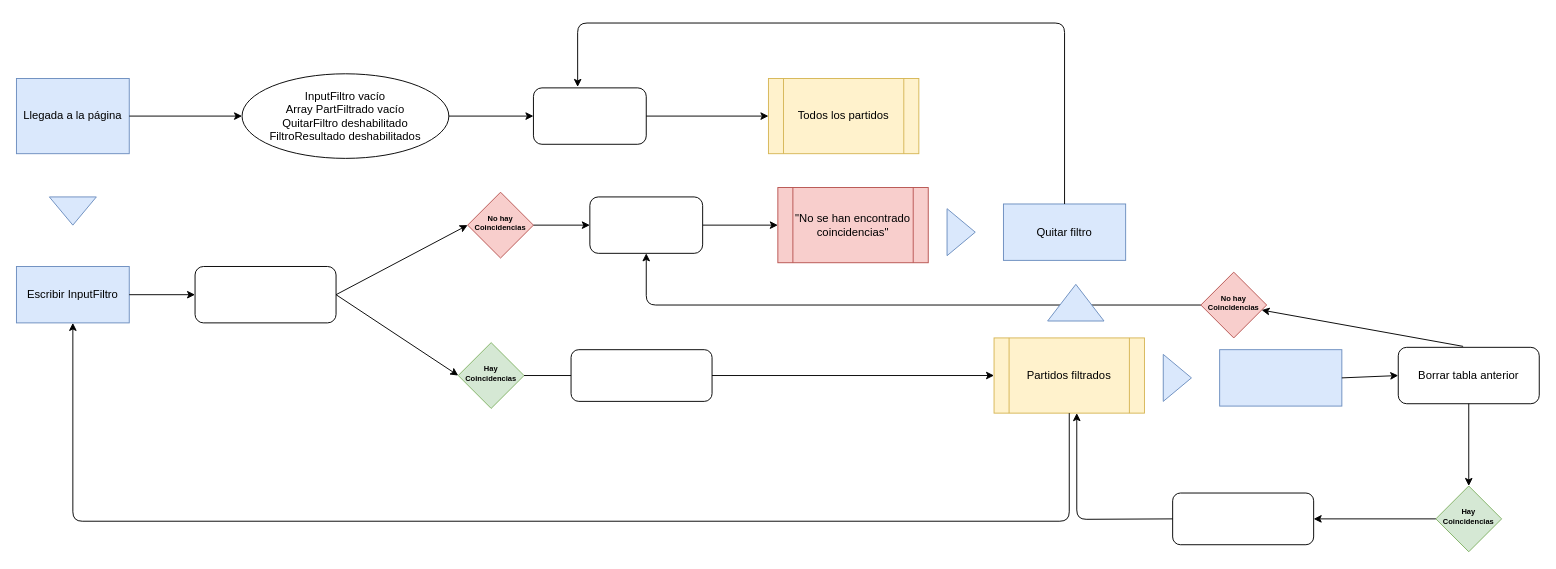
Image size: 1556x569. Some labels were removed from this diagram. The shapes that lost their labels are listed below. From the top down, each one's centre as x and y in pixels, then its label:
the point at 589,115: getData() filtro(partido) partidos(partido)
the point at 646,224: Mostrar "No hay resultados"
the point at 265,294: Borrar tabla anterior Borrar "No hay resultados" Habilitar QuitarFiltro
the point at 641,375: Habilitar FiltroResultado partidos(PartFiltrados)
the point at 1280,377: Filtrar por Resultados
the point at 1243,518: partidos(FiltroResultados)
